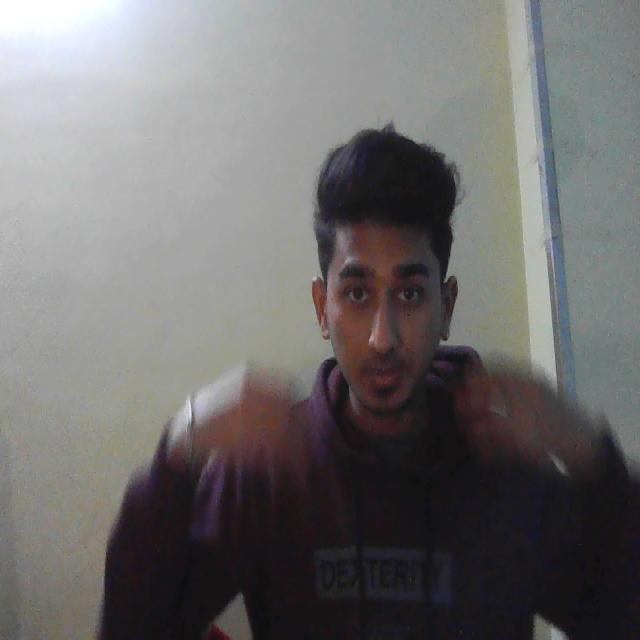real: (306, 136, 465, 437)
